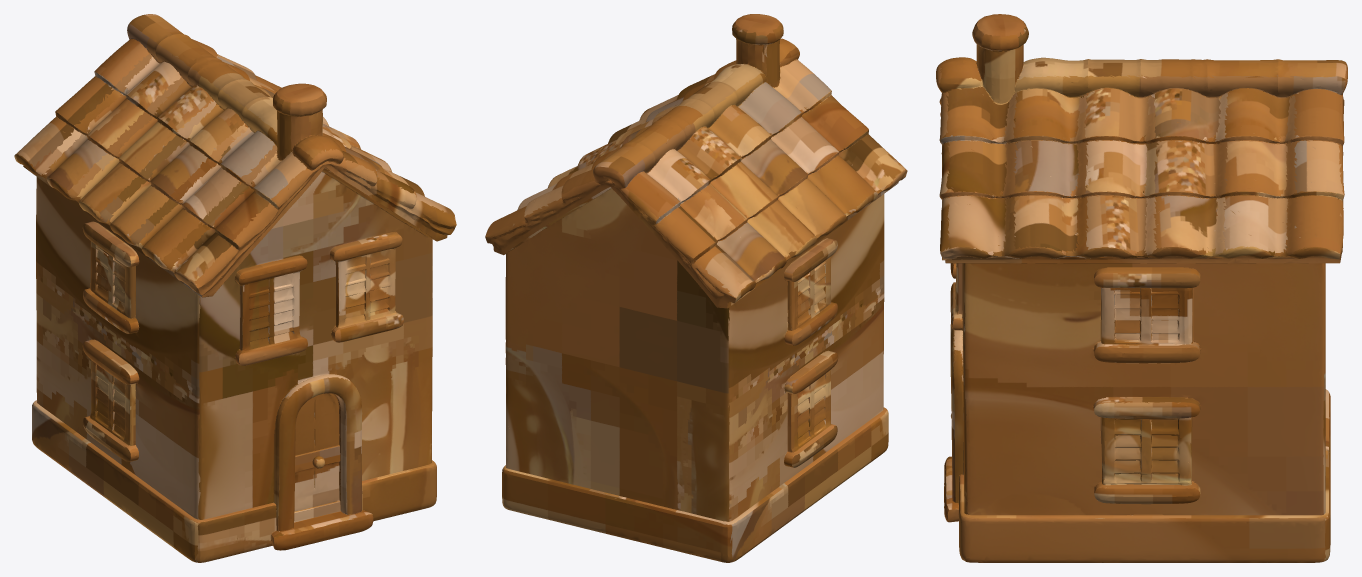
File: Casa4.fbx
3 renders of one model, left to right at view 1: azimuth 30°, elevation 25°; view 2: azimuth 150°, elevation 25°; view 3: azimuth 270°, elevation 25°, orthographic. The views are drawn at different scales.
Visible parts, largest first — view 1: model.001; view 2: model.001; view 3: model.001.
Part boxes in pixels (x1,y1,x2,y2): model.001: (14,14,456,562); model.001: (485,14,907,562); model.001: (936,14,1347,562).
Size of the model in its own units: 123 by 190 by 148.
